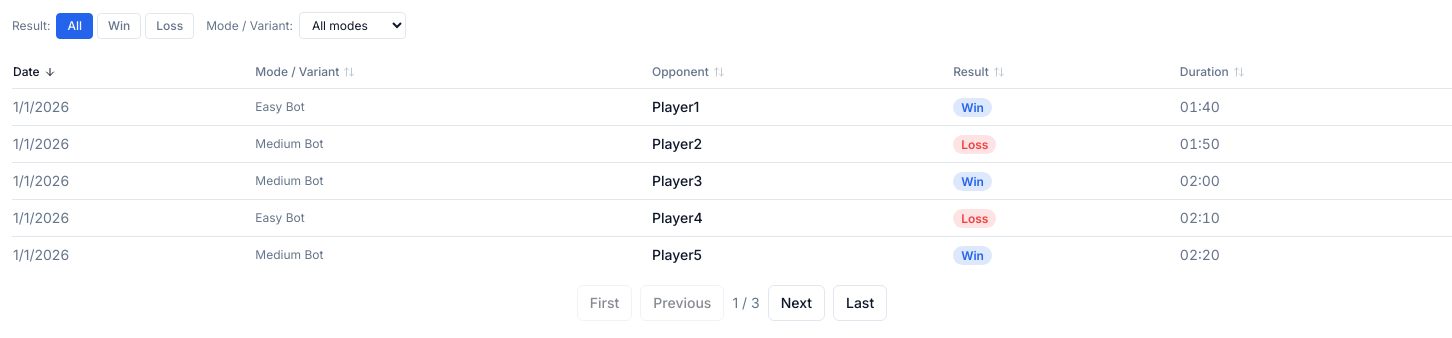
Test: MatchHistoryTable — pagination › navigates to next page
This screenshot has width=1452, height=338.
Click the button "Next": [796, 303] box 768,285 -> 825,321
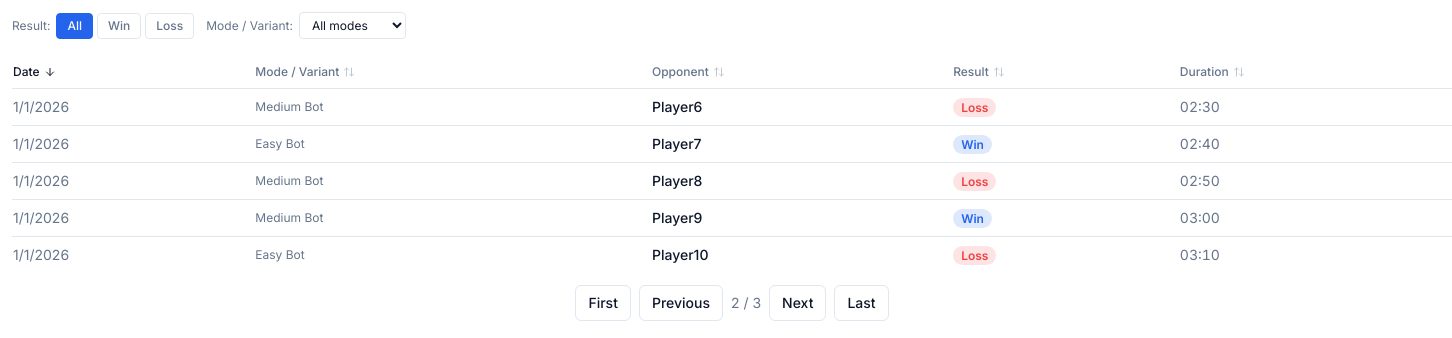
expect the text "2 / 3" is shown: met, box 731,293 -> 761,313
